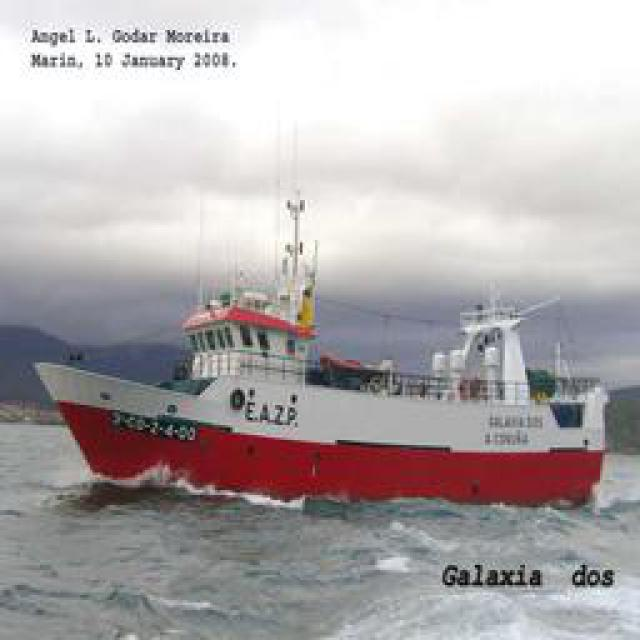Ship: (46, 277, 619, 517)
